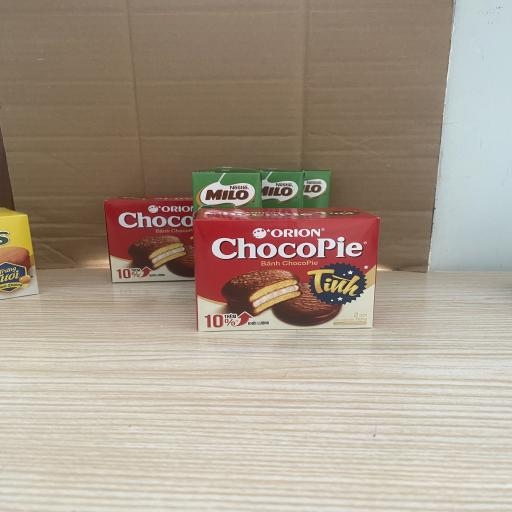chocopie: (191, 208, 380, 332), (102, 197, 195, 282)
custas: (0, 207, 39, 300)
milo: (192, 167, 260, 211), (258, 168, 304, 208), (303, 170, 331, 208)
